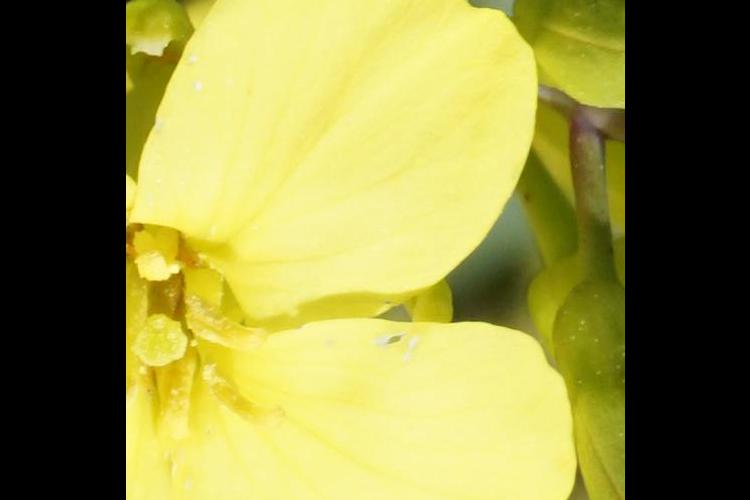bud: (555, 270, 624, 500), (516, 1, 626, 114)
yellow: (127, 1, 547, 500)
